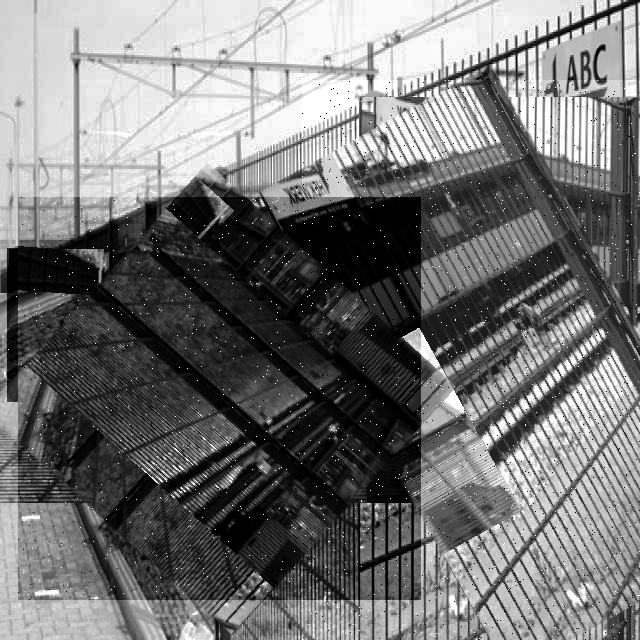fences: (302, 80, 640, 640), (18, 197, 421, 600), (7, 248, 106, 402)
